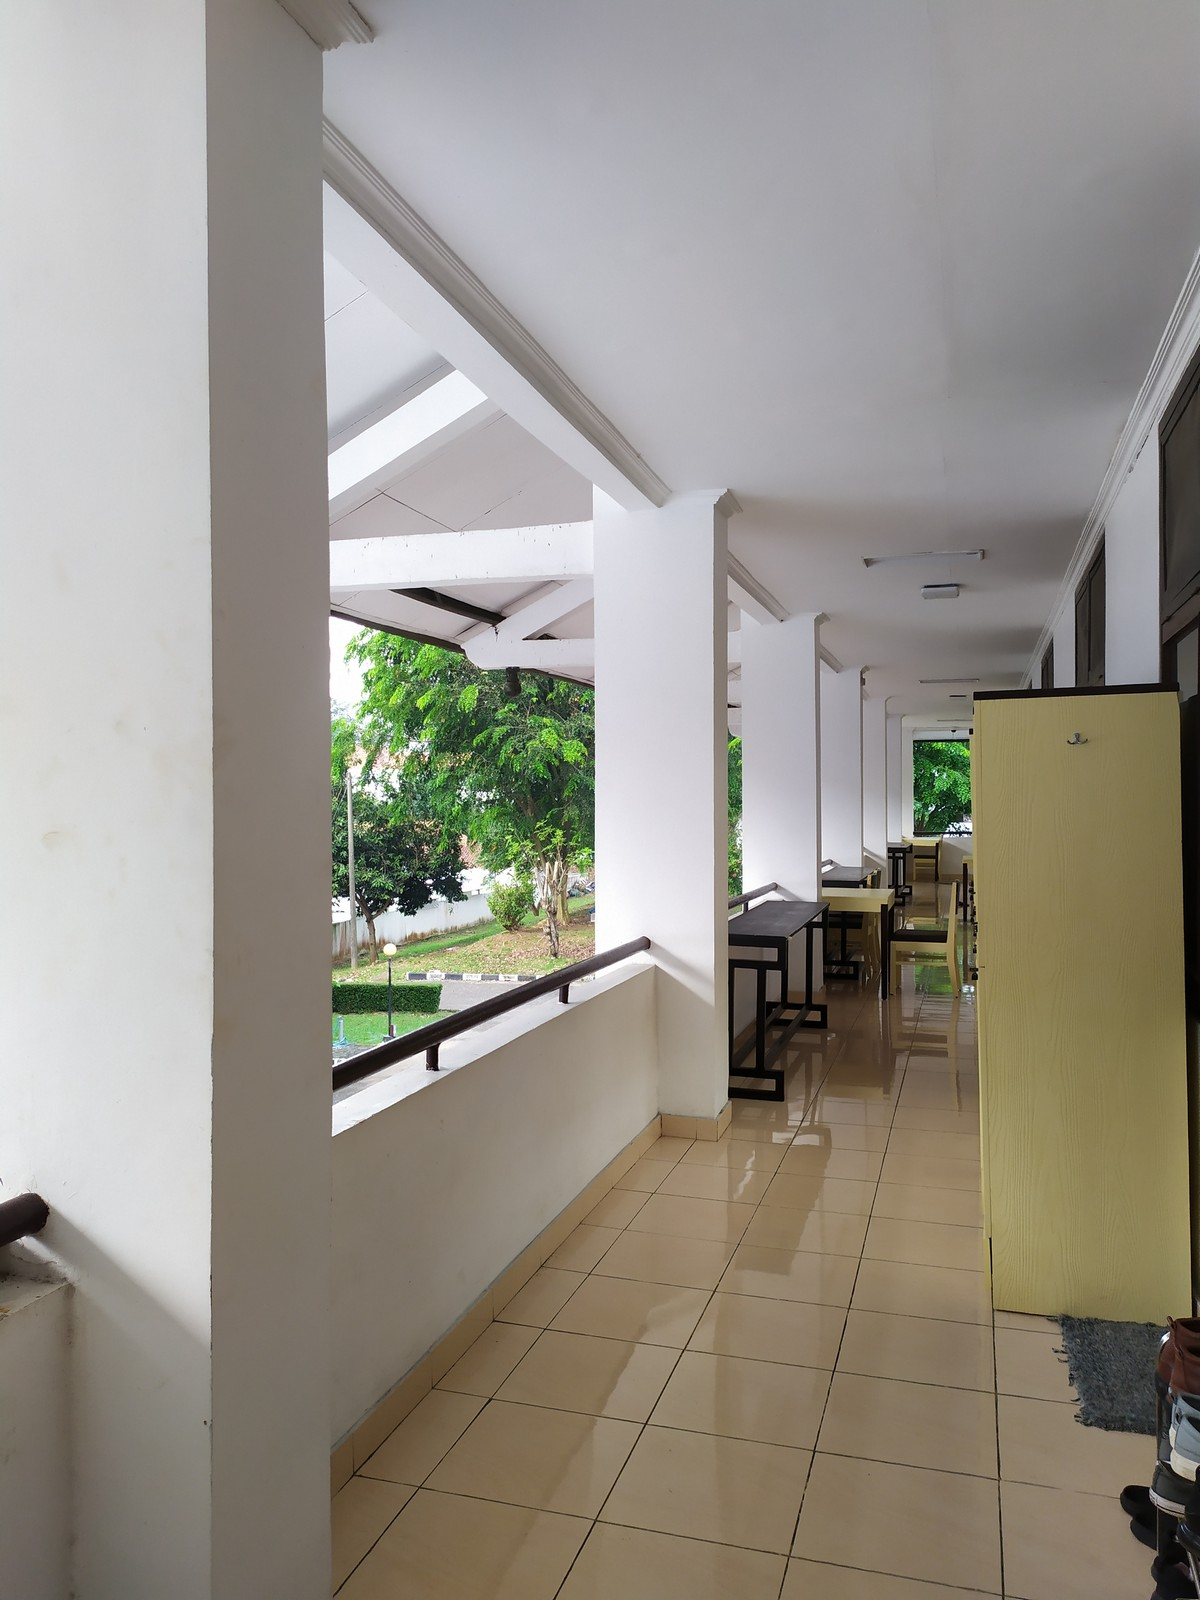concrete beam: (330, 527, 599, 591)
concrete column: (18, 8, 349, 1579), (587, 475, 742, 1151), (737, 603, 829, 1012)
